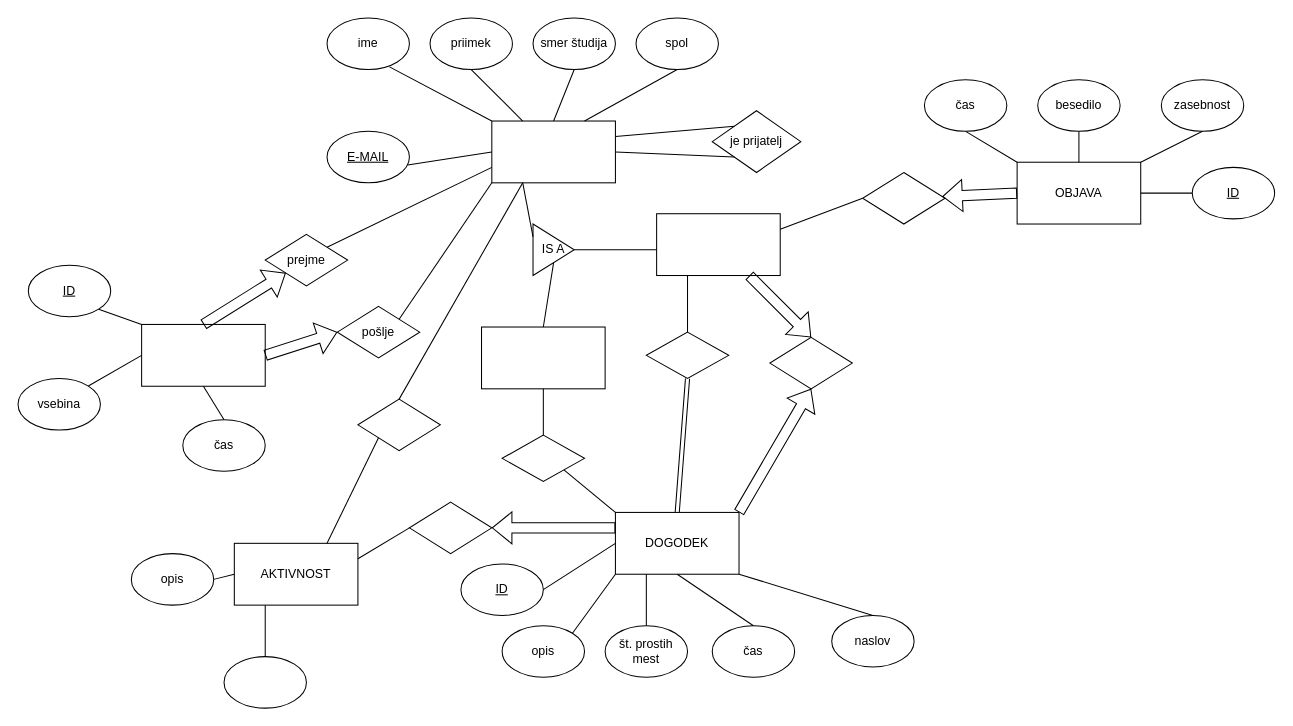
This 1293x726 diagram has some shape labels left out. Here are the shapes that lost their labels. From the top down, the box of each, then its label:
(491, 120, 615, 183): OSEBA
(862, 171, 945, 224): objavi
(656, 213, 780, 276): ORGANIZATOR
(141, 323, 265, 386): SPOROČILO
(480, 326, 605, 389): OBISKOVALEC
(645, 331, 729, 379): organizira
(769, 336, 852, 389): vodi
(357, 398, 440, 451): se ukvarja
(501, 434, 585, 482): se udeleži
(408, 501, 492, 554): izvaja
(223, 656, 306, 708): ime aktivnosti
